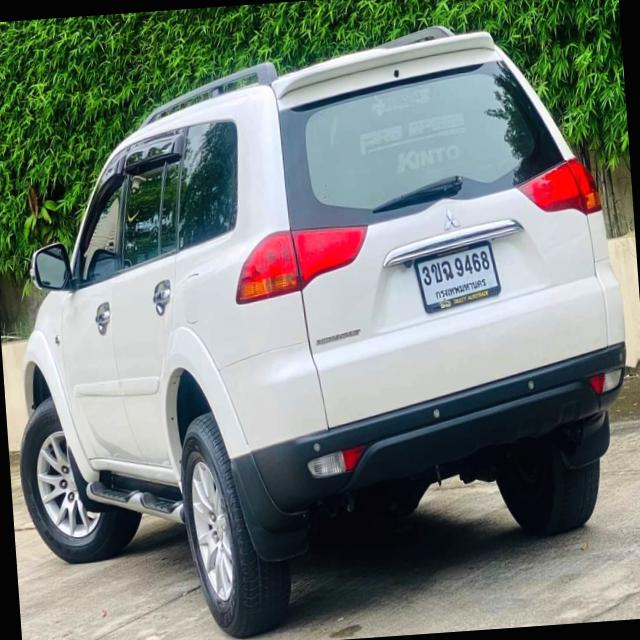license_plate: (412, 235, 505, 317)
